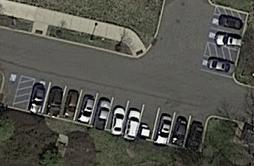parkingspot: (25, 76, 209, 153), (205, 11, 248, 52), (199, 54, 237, 79), (0, 72, 23, 109)
